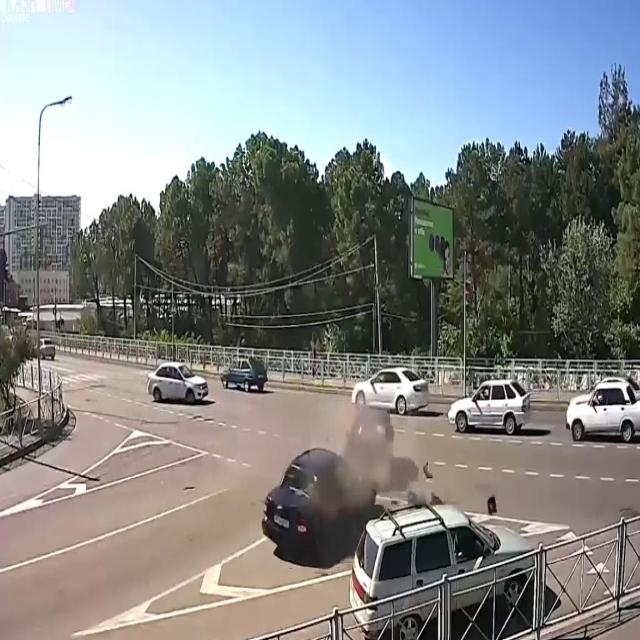accident: (258, 394, 398, 568)
non_accident: (444, 367, 640, 457), (144, 348, 270, 411)
